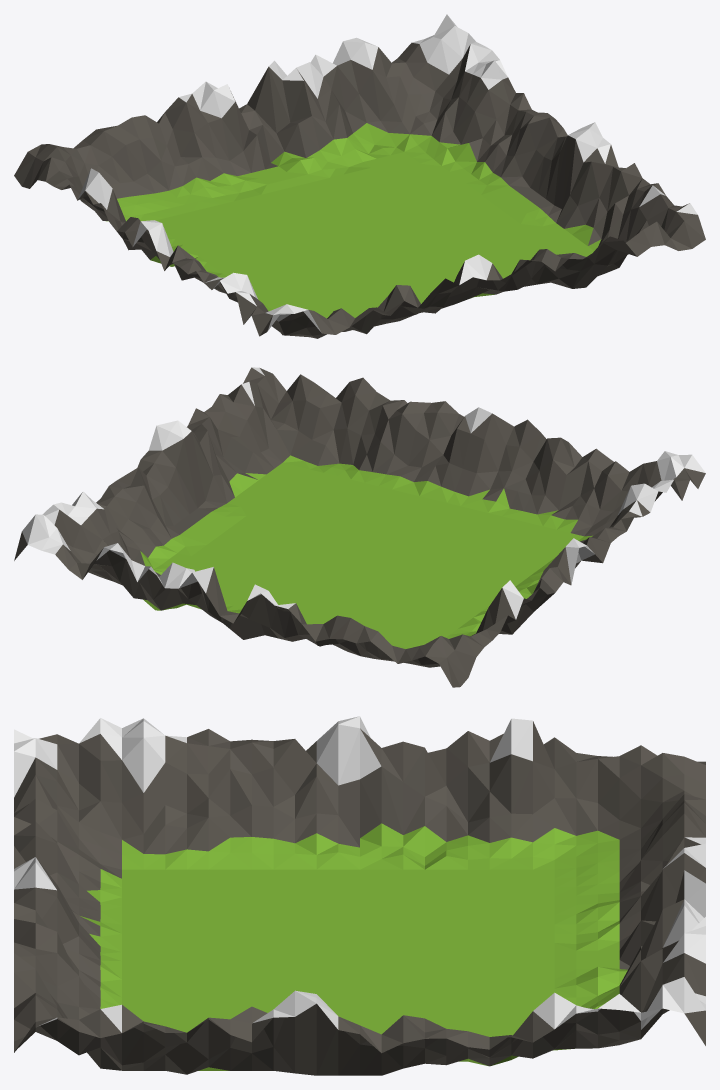
File: world.gltf
3 renders of one model, top to bottom at view 1: azimuth 30°, elevation 25°; view 2: azimuth 150°, elevation 25°; view 3: azimuth 270°, elevation 25°, orthographic. The views are drawn at different scales.
Visible parts, largest first — view 1: Plane; view 2: Plane; view 3: Plane.
Part boxes in pixels (x1=…): Plane: x1=14, y1=14, x2=705, y2=338; Plane: x1=14, y1=367, x2=705, y2=687; Plane: x1=14, y1=716, x2=705, y2=1075.
Size of the model in its own units: 3 by 0.6078 by 3.
